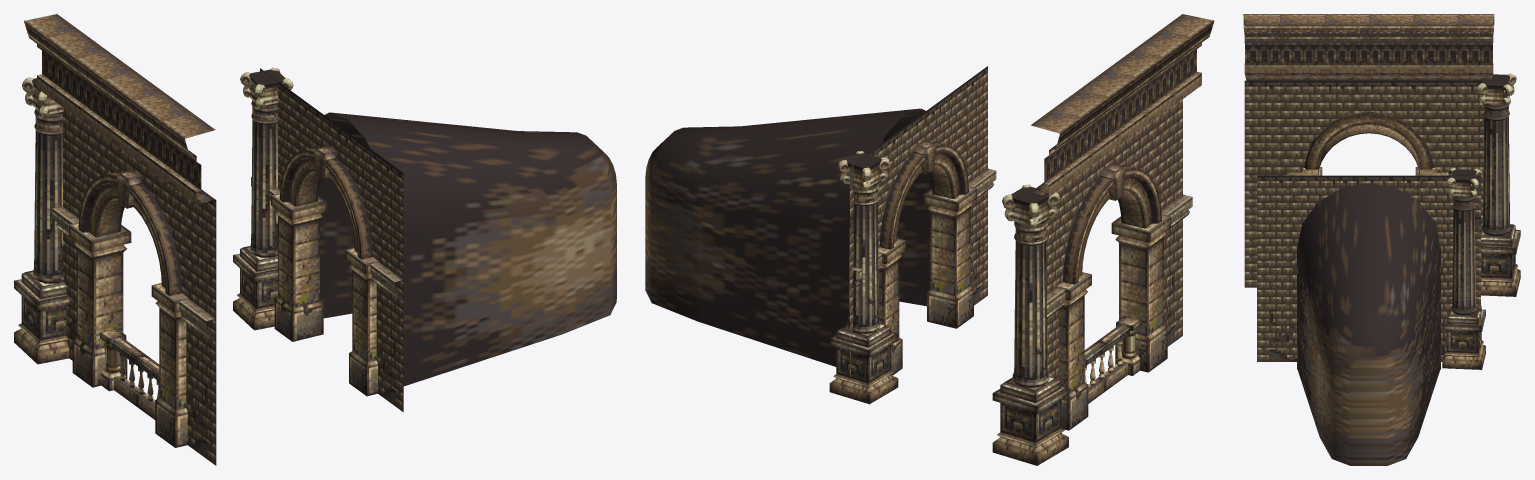
The model's file is EnvBdgMD_Festival_A_Outdoor_A_1F.FBX.
3 renders of one model, left to right at view 1: azimuth 30°, elevation 25°; view 2: azimuth 150°, elevation 25°; view 3: azimuth 270°, elevation 25°, orthographic. The views are drawn at different scales.
Parts seen in each view (by area): view 1: EnvBdgMD_Festival_A_Outdoor_A_1F; view 2: EnvBdgMD_Festival_A_Outdoor_A_1F; view 3: EnvBdgMD_Festival_A_Outdoor_A_1F.
Part boxes in pixels (left/top/right/bottom): EnvBdgMD_Festival_A_Outdoor_A_1F: left=14, top=14, right=616, bottom=465; EnvBdgMD_Festival_A_Outdoor_A_1F: left=645, top=14, right=1214, bottom=465; EnvBdgMD_Festival_A_Outdoor_A_1F: left=1243, top=14, right=1520, bottom=465.
Size of the model in its own units: 1015 by 650 by 624.
